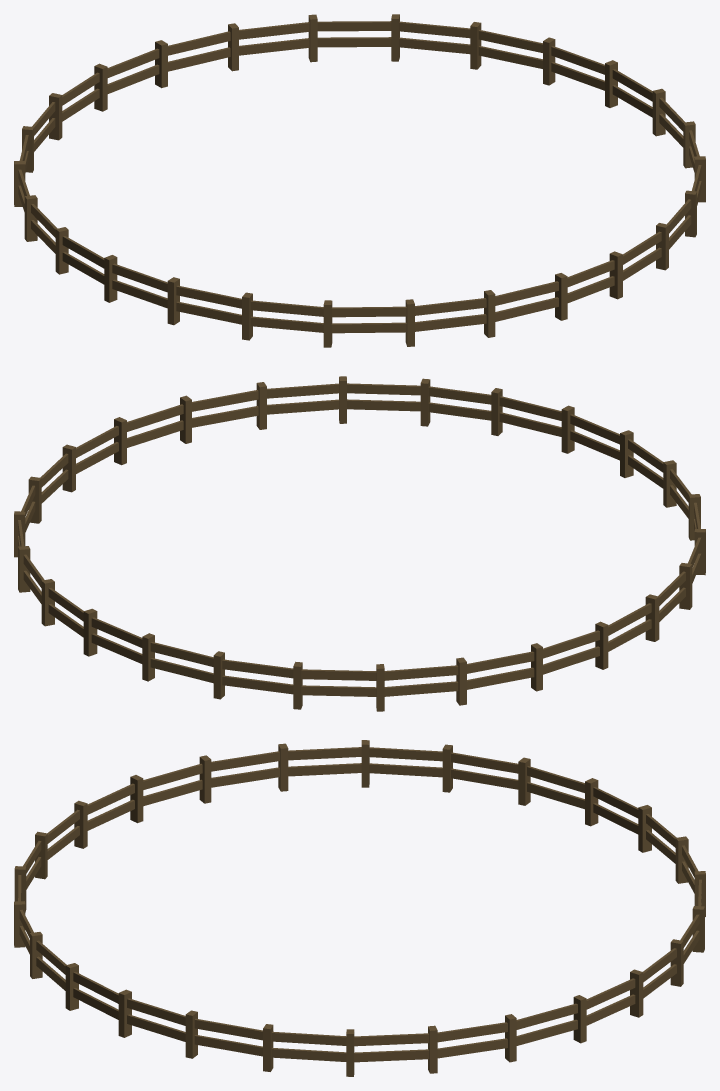
The model's file is Fence.fbx.
3 views of the same model, one above another, from view 1: azimuth 30°, elevation 25°; view 2: azimuth 150°, elevation 25°; view 3: azimuth 270°, elevation 25° (orthographic).
Parts seen in each view (by area): view 1: Fence_Ring; view 2: Fence_Ring; view 3: Fence_Ring.
Part boxes in pixels (box(x1,y1,x2,y2)): Fence_Ring: box(14, 14, 705, 347); Fence_Ring: box(14, 376, 705, 711); Fence_Ring: box(14, 740, 705, 1076).
Bounding box in the file's own units: 60.94 × 4.15 × 60.6.
